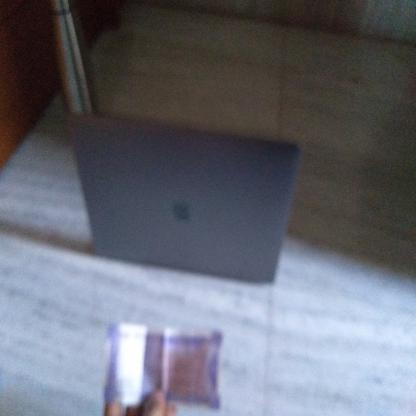New100Back: (106, 327, 218, 410)
